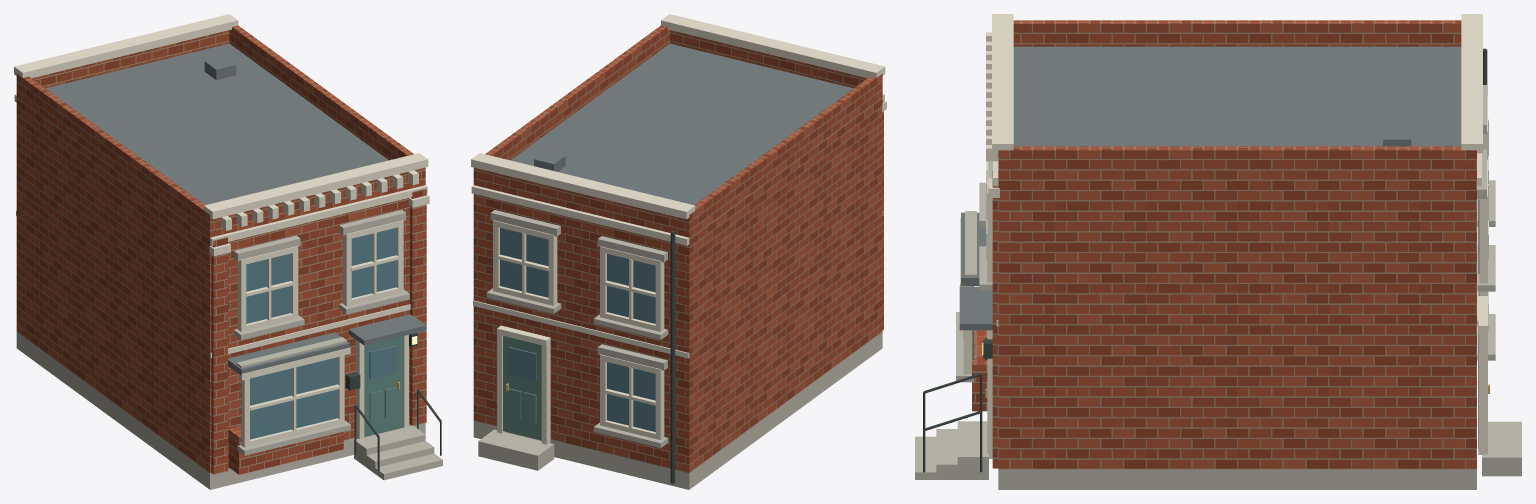
The model's file is row-house-01.glb.
The picture shows the model from 3 angles, left to right: view 1: azimuth 30°, elevation 25°; view 2: azimuth 150°, elevation 25°; view 3: azimuth 270°, elevation 25°; orthographic projection. The views are drawn at different scales.
Visible parts, largest first — view 1: House.Brick walls, House.Foundation; view 2: House.Brick walls, House.Foundation; view 3: House.Brick walls, House.Foundation.
Part boxes in pixels (x1,y1,x2,y2): House.Brick walls: (16, 25, 426, 474); House.Foundation: (14, 14, 442, 489); House.Brick walls: (473, 25, 883, 472); House.Foundation: (471, 14, 886, 489); House.Brick walls: (972, 20, 1476, 469); House.Foundation: (915, 14, 1521, 489).
Bounding box in the file's own units: 5.41 × 6.7 × 10.65.
2 materials, 2 textured.
